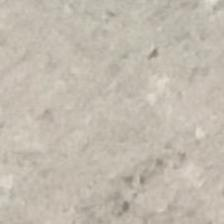Non_Crack: (39, 7, 198, 186)
